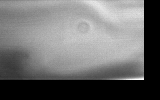cell: (60, 13, 104, 38), (67, 5, 97, 26), (69, 13, 92, 35), (74, 20, 92, 37)
